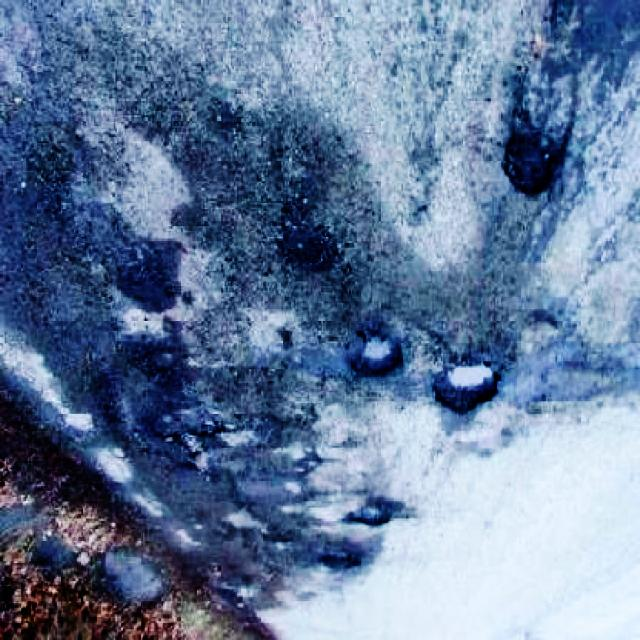pothole: (126, 342, 243, 460), (103, 244, 195, 316), (500, 126, 565, 202), (272, 211, 350, 271), (434, 357, 503, 417), (346, 323, 406, 379), (316, 543, 366, 577), (349, 494, 391, 532)
